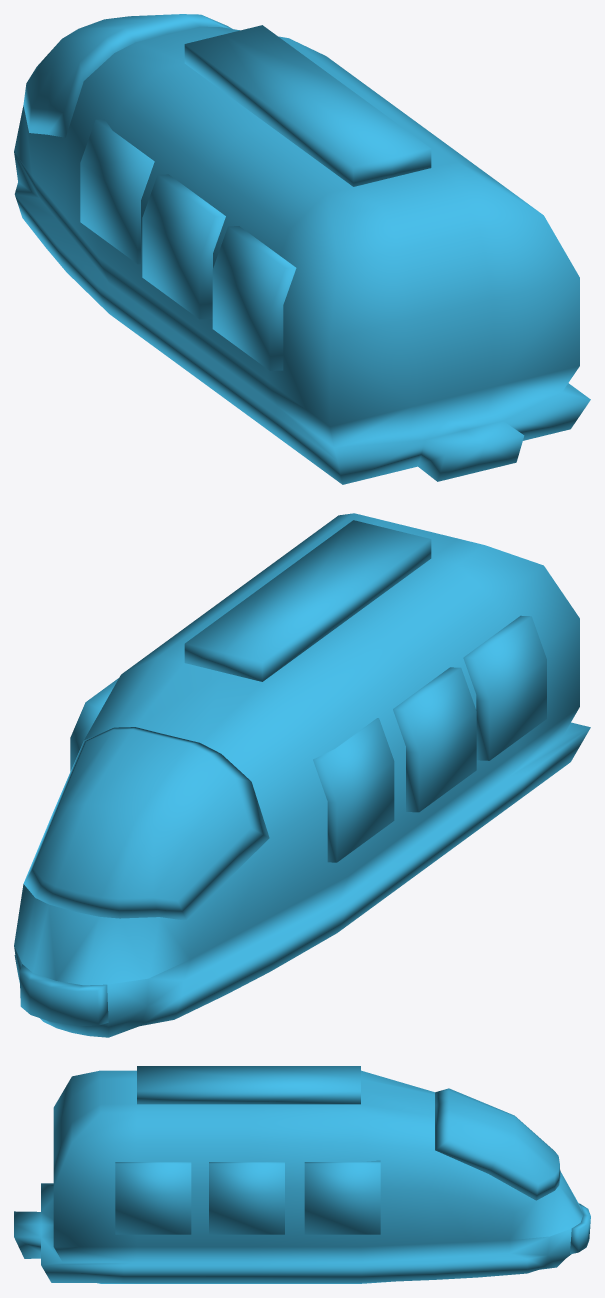
File: TrainEnd.glb
3 renders of one model, top to bottom at view 1: azimuth 30°, elevation 25°; view 2: azimuth 150°, elevation 25°; view 3: azimuth 270°, elevation 25°, orthographic. The views are drawn at different scales.
Parts seen in each view (by area): view 1: Train End; view 2: Train End; view 3: Train End.
Boxes of the visible parts, left/top/right/bottom form: Train End: left=14, top=14, right=590, bottom=484; Train End: left=14, top=513, right=590, bottom=1037; Train End: left=14, top=1066, right=590, bottom=1283.
Size of the model in its own units: 1.17 by 1.12 by 3.17.
